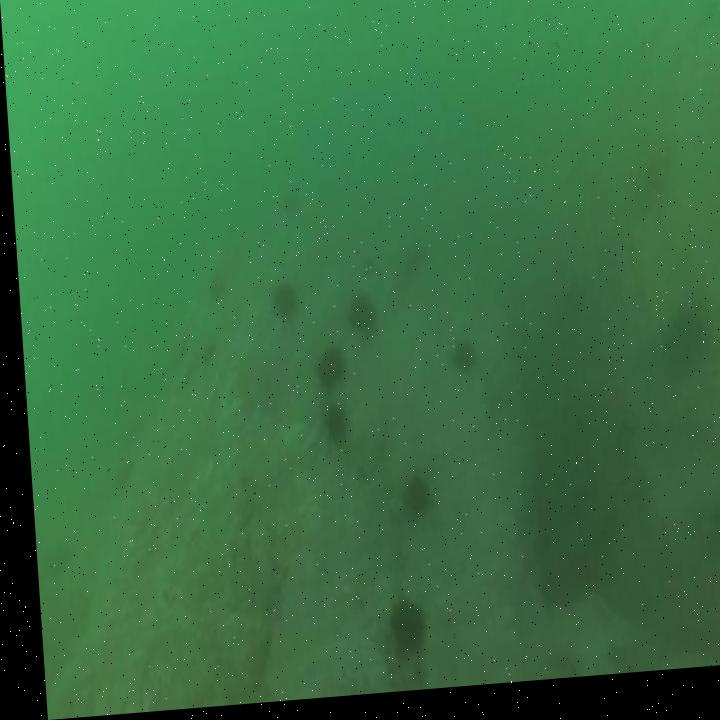echinus: (653, 310, 704, 399), (376, 599, 420, 671), (306, 345, 345, 405), (337, 292, 377, 348), (392, 473, 425, 537), (263, 277, 296, 333), (313, 403, 345, 458), (441, 341, 477, 387), (394, 244, 425, 288), (105, 452, 131, 500), (273, 186, 302, 229), (191, 334, 213, 376), (202, 269, 223, 312)
